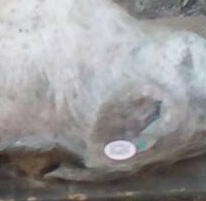text: (98, 127, 143, 171)
